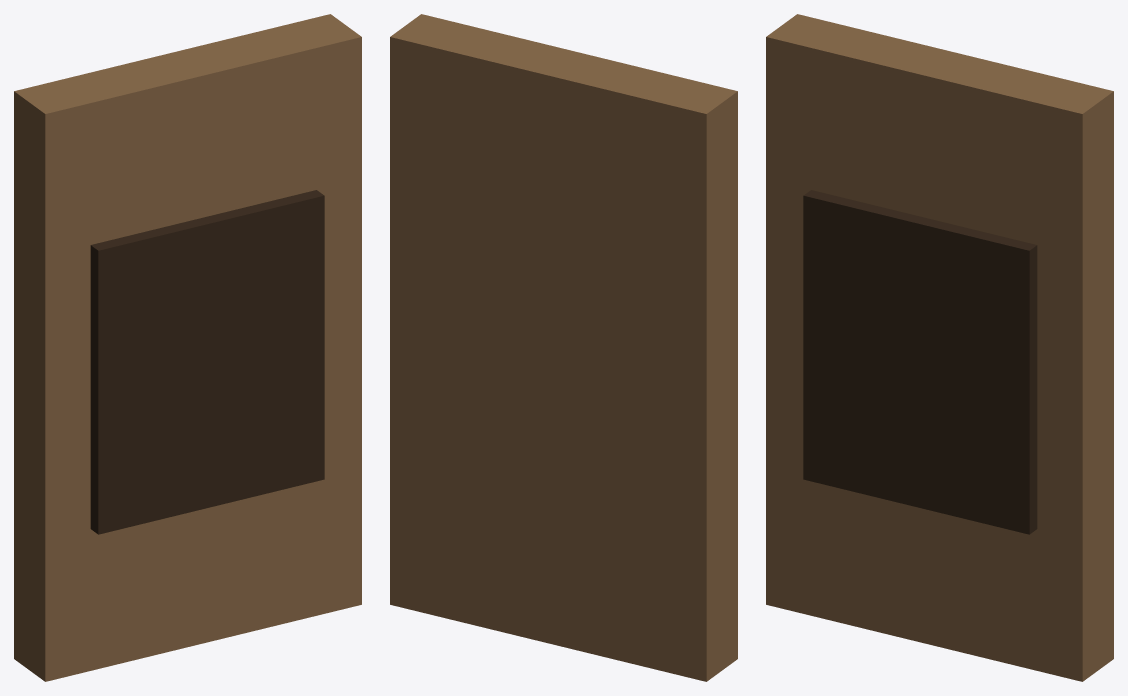
The model's file is ENV_Door_Fragment_A.glb.
3 views of the same model, side by side, from view 1: azimuth 30°, elevation 25°; view 2: azimuth 150°, elevation 25°; view 3: azimuth 330°, elevation 25° (orthographic).
Visible parts, largest first — view 1: ENV_Door_Fragment_A_Plank, ENV_Door_Fragment_A_Panel; view 2: ENV_Door_Fragment_A_Plank; view 3: ENV_Door_Fragment_A_Plank, ENV_Door_Fragment_A_Panel.
Boxes of the visible parts, x1=… form: ENV_Door_Fragment_A_Plank: x1=14, y1=14, x2=361, y2=681; ENV_Door_Fragment_A_Panel: x1=90, y1=190, x2=324, y2=534; ENV_Door_Fragment_A_Plank: x1=390, y1=14, x2=737, y2=681; ENV_Door_Fragment_A_Plank: x1=766, y1=14, x2=1113, y2=681; ENV_Door_Fragment_A_Panel: x1=803, y1=190, x2=1037, y2=534.
Size of the model in its own units: 0.35 by 0.6 by 0.075.
